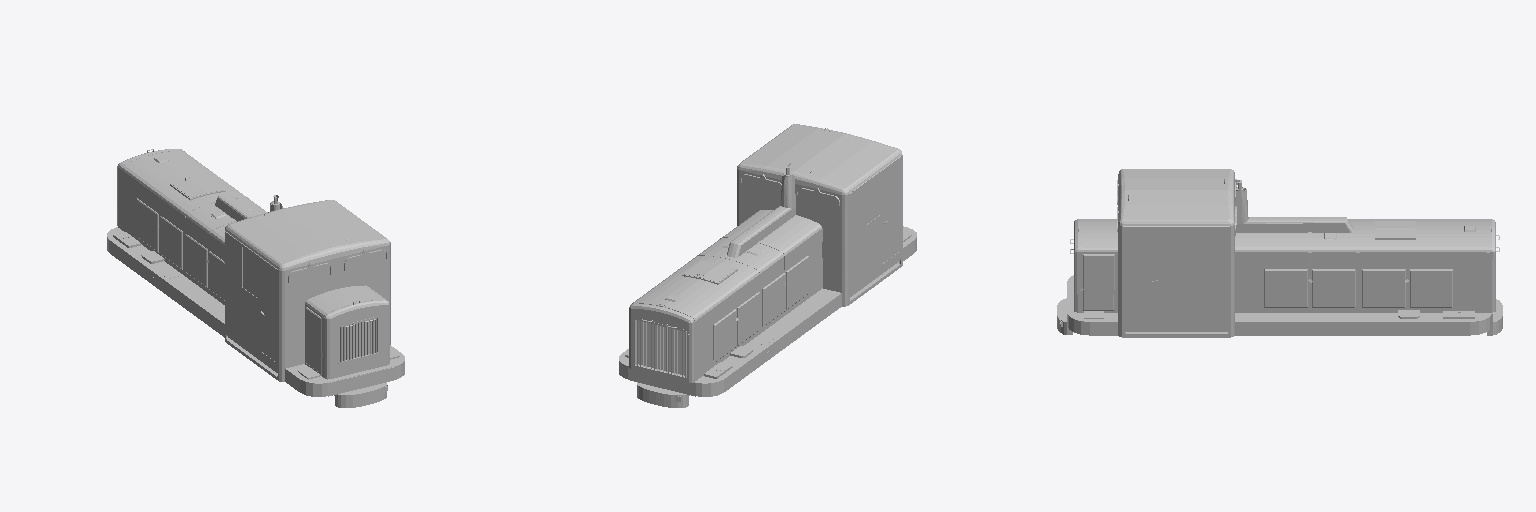
File: osnova_tu4.obj
3 views of the same model, side by side, from view 1: azimuth 30°, elevation 25°; view 2: azimuth 150°, elevation 25°; view 3: azimuth 270°, elevation 25° (orthographic).
Visible parts, largest first — view 1: TU4-2790_00.001; view 2: TU4-2790_00.001; view 3: TU4-2790_00.001.
Boxes of the visible parts, x1=… form: TU4-2790_00.001: x1=107, y1=149, x2=404, y2=407; TU4-2790_00.001: x1=619, y1=124, x2=916, y2=407; TU4-2790_00.001: x1=1057, y1=169, x2=1502, y2=337.
Bounding box in the file's own units: 2.21 × 2.84 × 7.55.